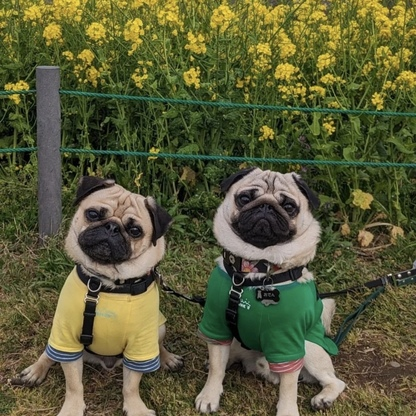Pug: (15, 169, 187, 416), (190, 160, 353, 416)
